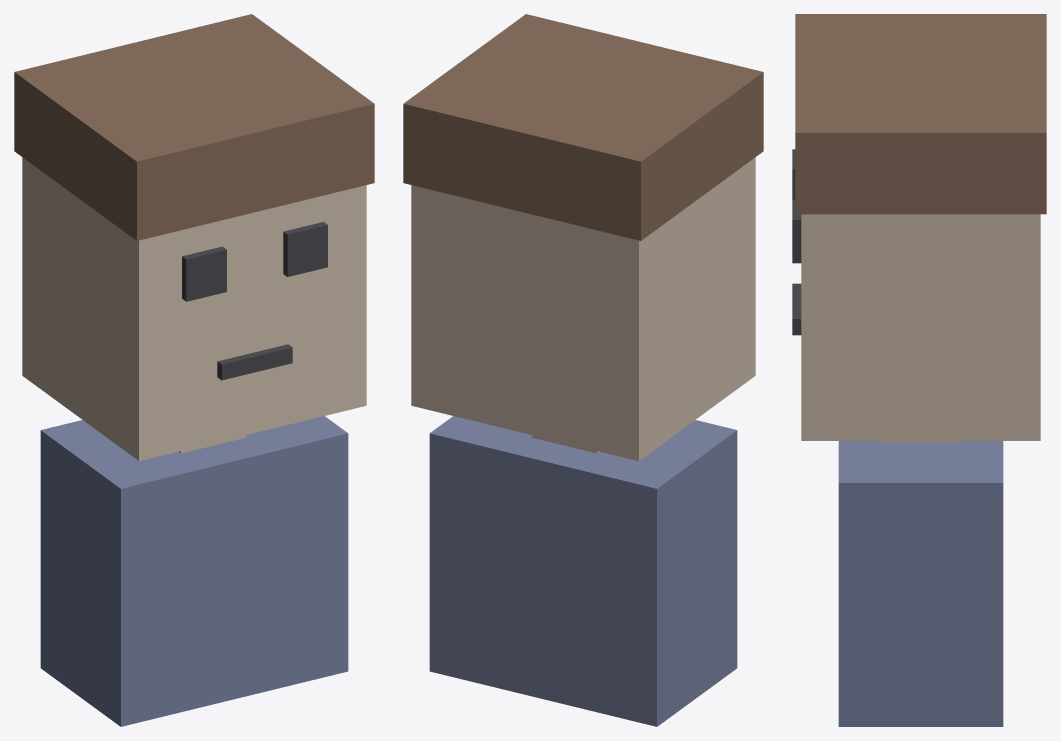
File: demo-figur.glb
3 views of the same model, side by side, from view 1: azimuth 30°, elevation 25°; view 2: azimuth 150°, elevation 25°; view 3: azimuth 270°, elevation 25° (orthographic). The views are drawn at different scales.
Visible parts, largest first — view 1: Figur; view 2: Figur; view 3: Figur.
Boxes of the visible parts, x1,y1,x2,y2 form: Figur: (14, 14, 374, 726); Figur: (403, 14, 763, 726); Figur: (792, 14, 1046, 726).
Bounding box in the file's own units: 0.94 × 2.2 × 0.85.
